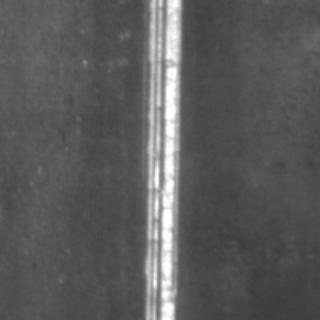scratches: (134, 0, 184, 316)
